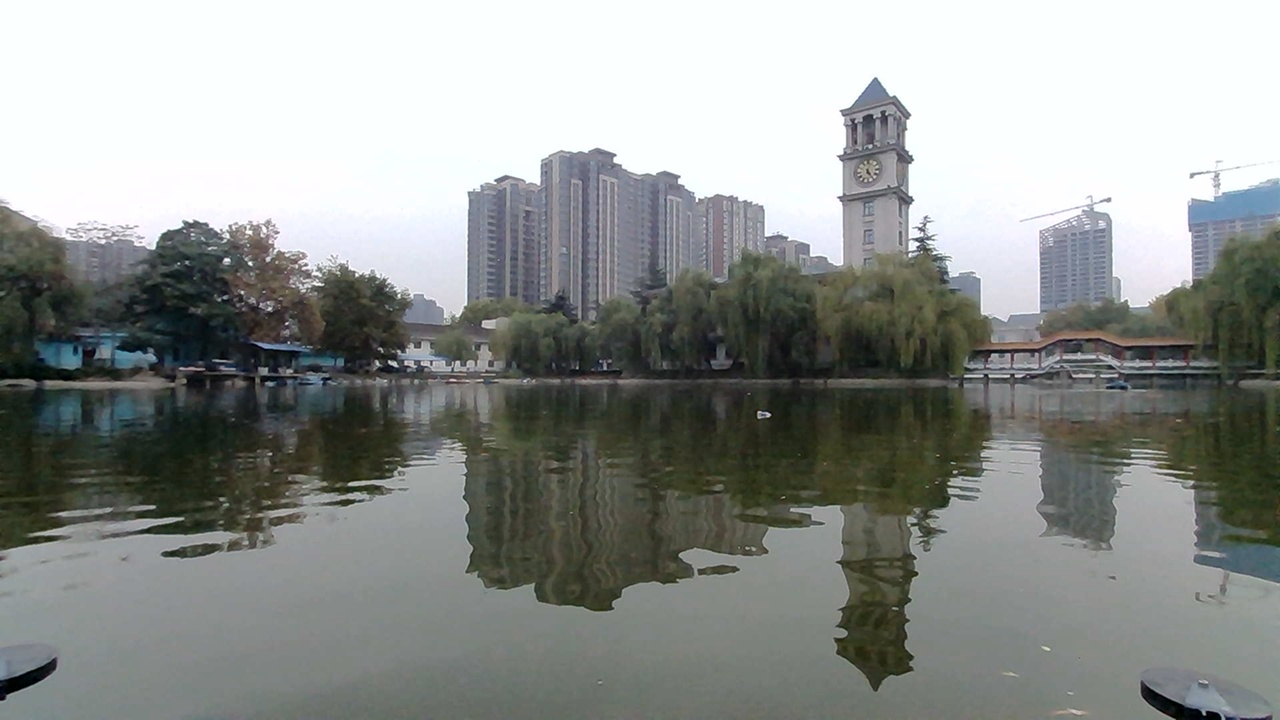bottle: (738, 397, 777, 427)
